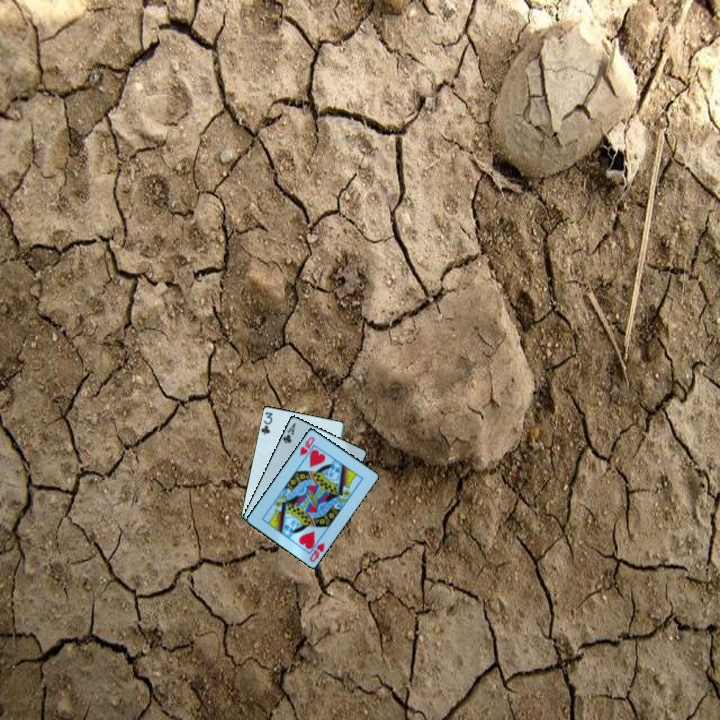3c: (257, 408, 275, 437)
Ac: (279, 419, 299, 446)
Qh: (306, 539, 327, 565), (296, 433, 317, 458)
